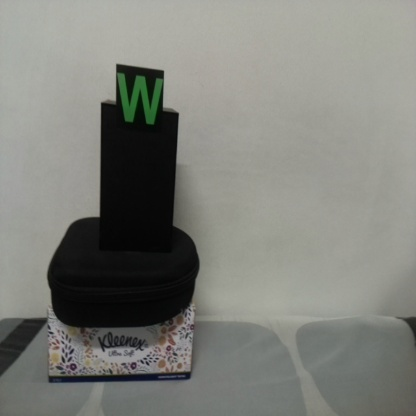id_12: (115, 65, 164, 137)
